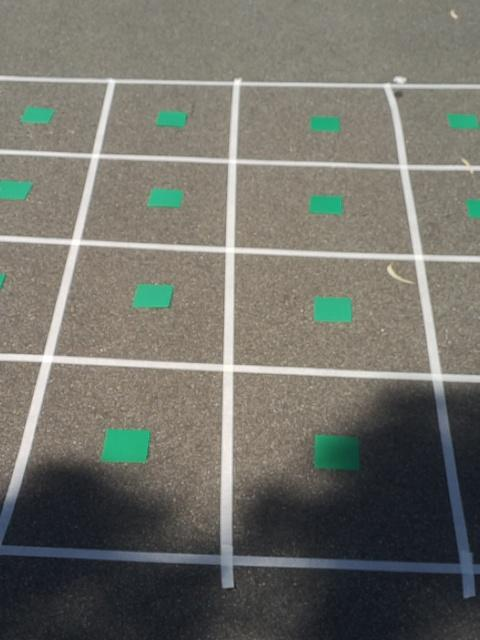weed: (103, 428, 152, 462), (313, 293, 358, 327), (318, 432, 356, 471), (130, 282, 173, 310), (309, 192, 344, 218), (149, 184, 183, 210), (0, 180, 38, 201), (159, 107, 187, 131), (448, 110, 480, 131), (21, 104, 53, 124), (312, 111, 339, 133), (469, 196, 480, 220)
